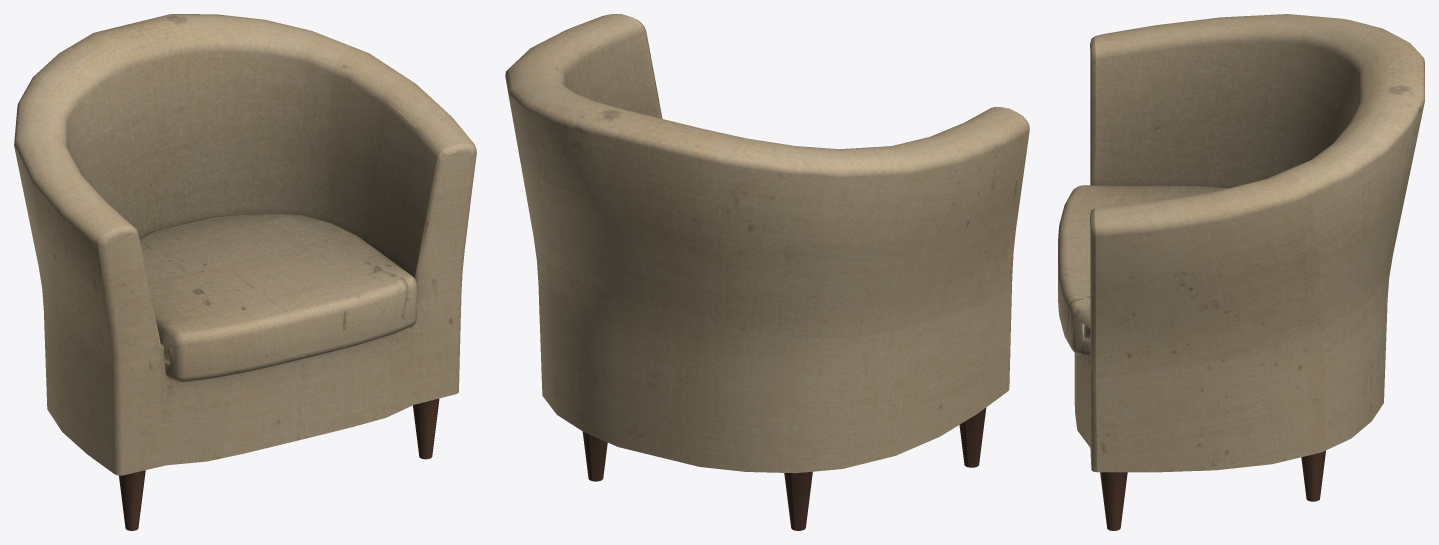
Rendered from easy_chair.obj.
The picture shows the model from 3 angles, left to right: view 1: azimuth 30°, elevation 25°; view 2: azimuth 150°, elevation 25°; view 3: azimuth 270°, elevation 25°; orthographic projection. The views are drawn at different scales.
Visible parts, largest first — view 1: Model001_4_Material3988_1.0_0.0_0.0; view 2: Model001_4_Material3988_1.0_0.0_0.0; view 3: Model001_4_Material3988_1.0_0.0_0.0.
Boxes of the visible parts, x1,y1,x2,y2 form: Model001_4_Material3988_1.0_0.0_0.0: [14, 14, 476, 530]; Model001_4_Material3988_1.0_0.0_0.0: [505, 14, 1029, 530]; Model001_4_Material3988_1.0_0.0_0.0: [1058, 14, 1424, 530].
Bounding box in the file's own units: 1.32 × 1.18 × 1.02.
